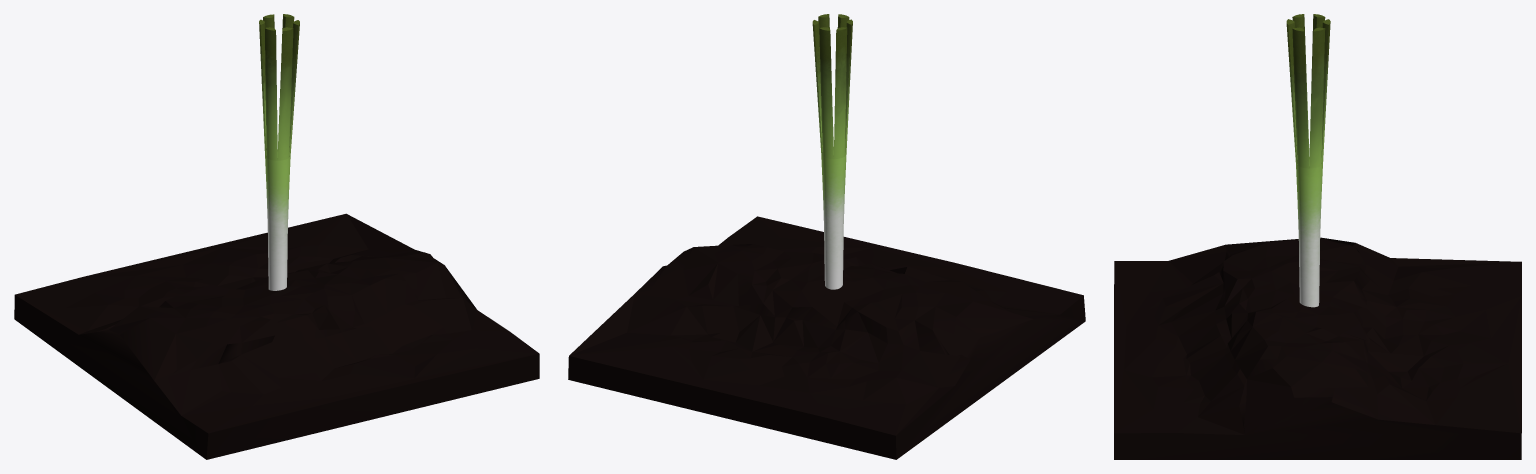
The model's file is bedeng_bawang_1_watered.obj.
The picture shows the model from 3 angles, left to right: view 1: azimuth 30°, elevation 25°; view 2: azimuth 150°, elevation 25°; view 3: azimuth 270°, elevation 25°; orthographic projection. The views are drawn at different scales.
Visible parts, largest first — view 1: PP_Meadow_Path_05_Scene.1042, Leek_Mesh; view 2: PP_Meadow_Path_05_Scene.1042, Leek_Mesh; view 3: PP_Meadow_Path_05_Scene.1042, Leek_Mesh.
Boxes of the visible parts, bbox=[...] form: PP_Meadow_Path_05_Scene.1042: bbox=[14, 213, 539, 459]; Leek_Mesh: bbox=[259, 14, 299, 290]; PP_Meadow_Path_05_Scene.1042: bbox=[568, 216, 1085, 459]; Leek_Mesh: bbox=[812, 14, 852, 289]; PP_Meadow_Path_05_Scene.1042: bbox=[1114, 237, 1521, 459]; Leek_Mesh: bbox=[1286, 14, 1330, 307].
Bounding box in the file's own units: 1 × 0.9474 × 1.
